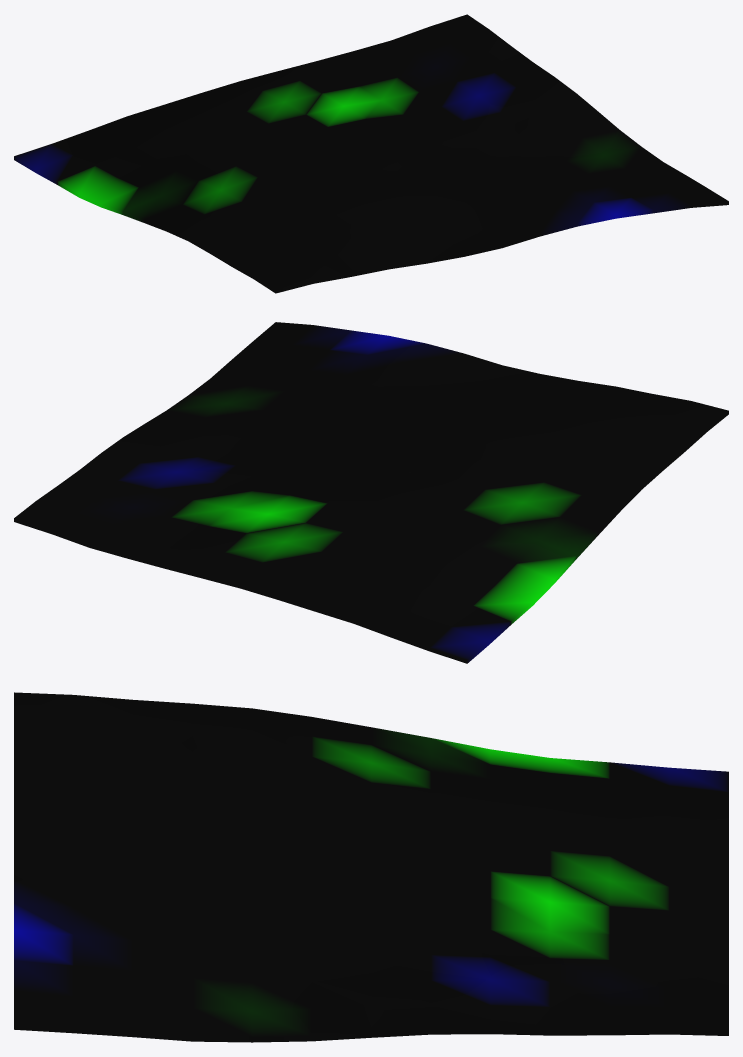
The model's file is coast_23_1.glb.
3 views of the same model, one above another, from view 1: azimuth 30°, elevation 25°; view 2: azimuth 150°, elevation 25°; view 3: azimuth 270°, elevation 25° (orthographic). The views are drawn at different scales.
Visible parts, largest first — view 1: terrain; view 2: terrain; view 3: terrain.
Part boxes in pixels (x1,y1,x2,y2): terrain: (14, 14, 728, 293); terrain: (14, 322, 728, 663); terrain: (14, 692, 728, 1042).
Bounding box in the file's own units: 192 × 25.18 × 192.
